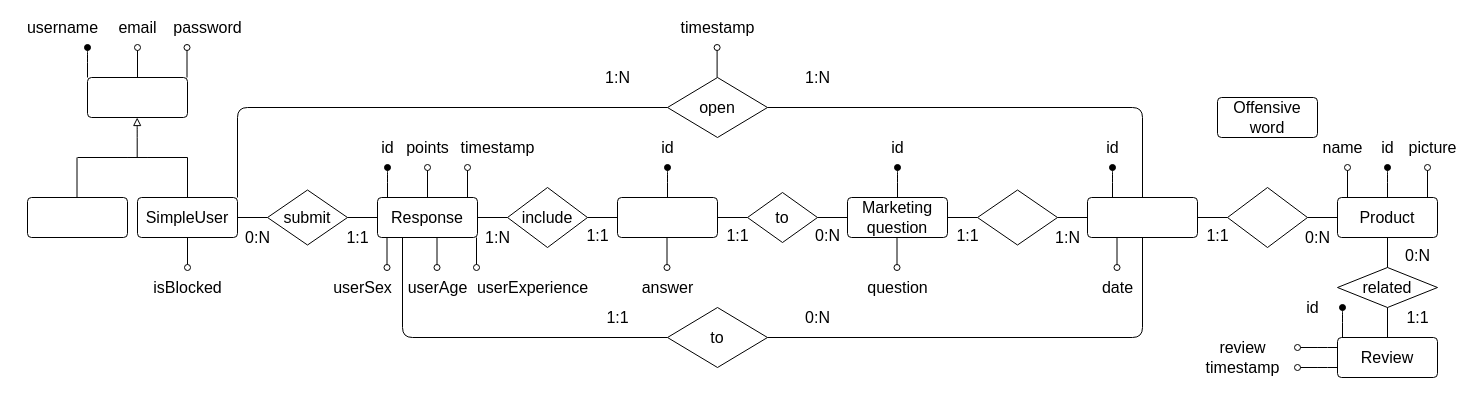
Image size: 1479x395. Some labels were removed from this diagram. Each missing label, with the box of its shape:
about: (1226, 186, 1308, 248)
Admin: (26, 196, 128, 238)
from: (976, 189, 1058, 245)
Marketing answer: (616, 196, 718, 238)
Questionnaire: (1086, 196, 1198, 238)
User: (86, 76, 188, 118)
